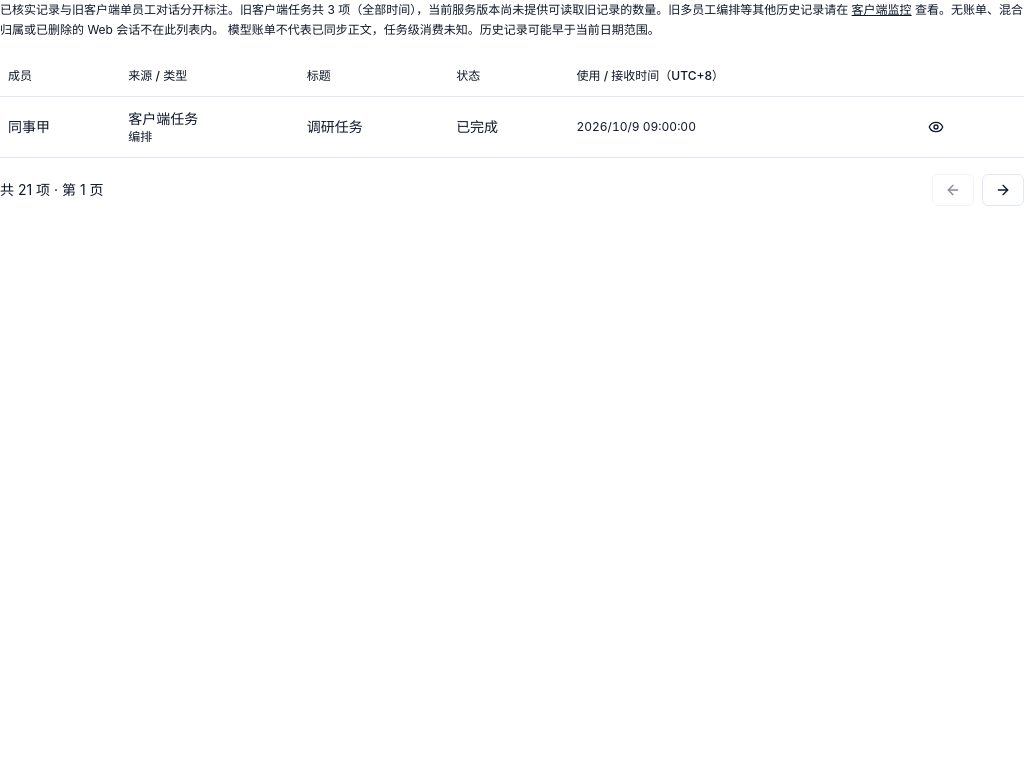
it: EmployeeUsageRecords › 默认最新批次，按参与正文显示缺片与接收时间，监控链接带订阅范围
Click the button named "查看 调研任务" at (936, 127), box 916,111 -> 956,143
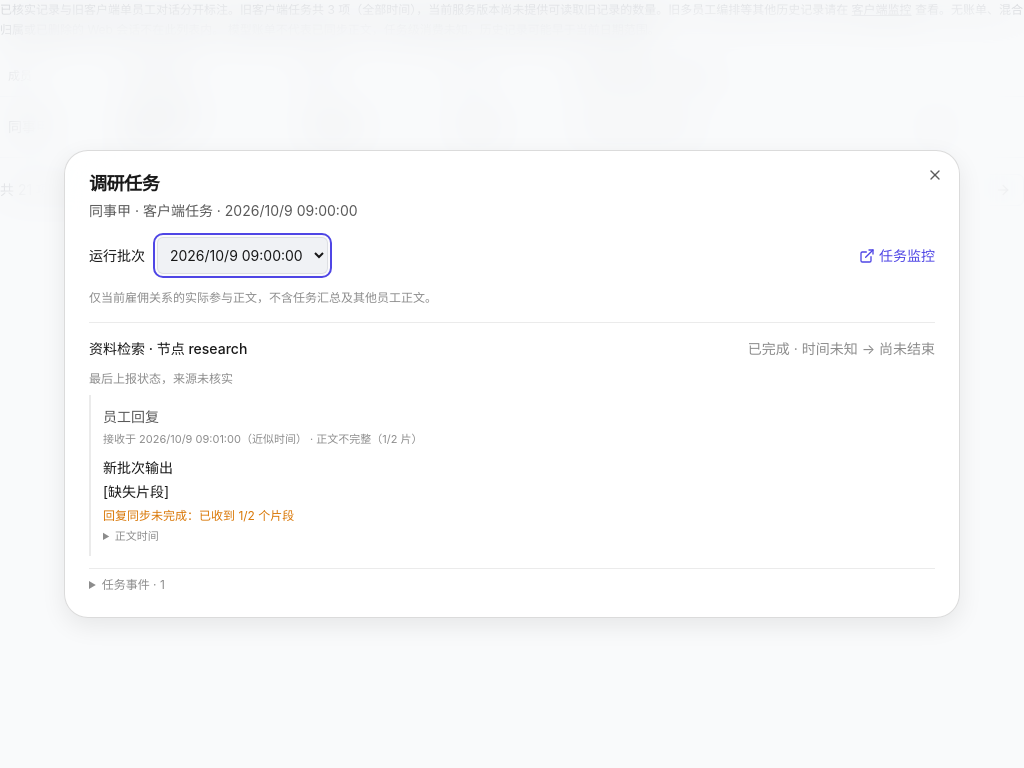
Result: the dropdown labelled "运行批次" shows "2026/10/9 09:00:00"
Result: the text "新批次输出 [缺失片段]" is shown at 103,458 -> 173,500
Result: the text "接收于 2026/10/9 09:01:00（近似时间） · 正文不完整（1/2 片）" is shown at 103,432 -> 422,446
Select "2026/10/8 09:00:00" in the dropdown labelled "运行批次" at (242, 256), box 157,237 -> 328,274
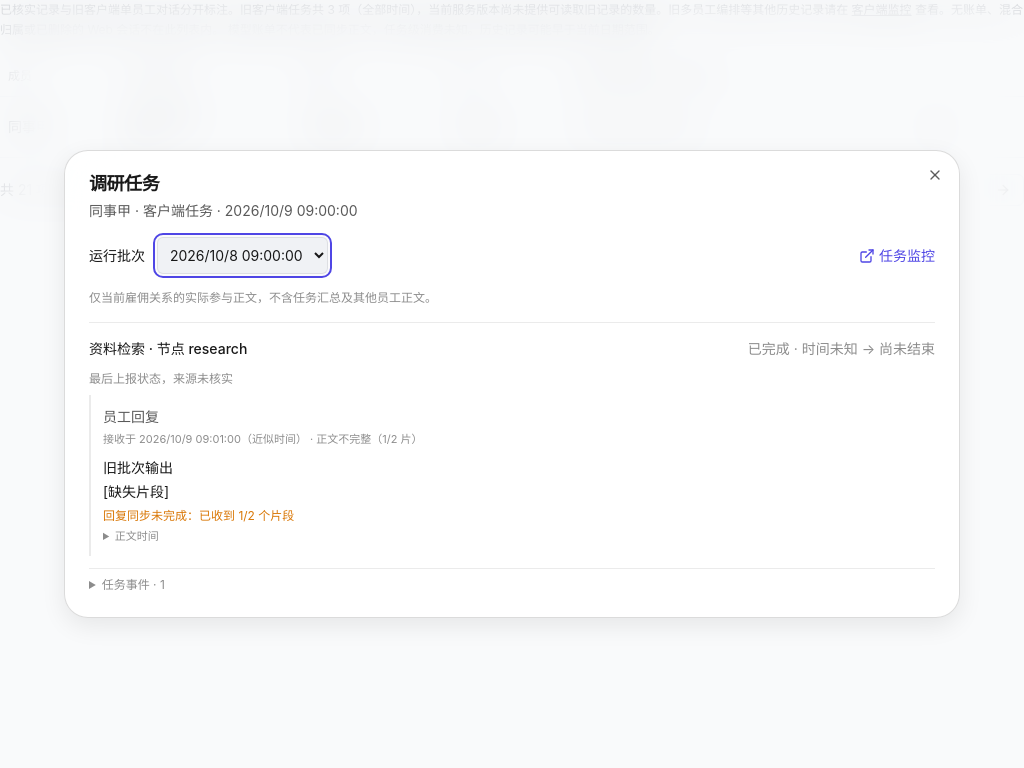
Result: the text "旧批次输出 [缺失片段]" is shown at 103,458 -> 173,500
Result: the text "新批次输出" is gone
